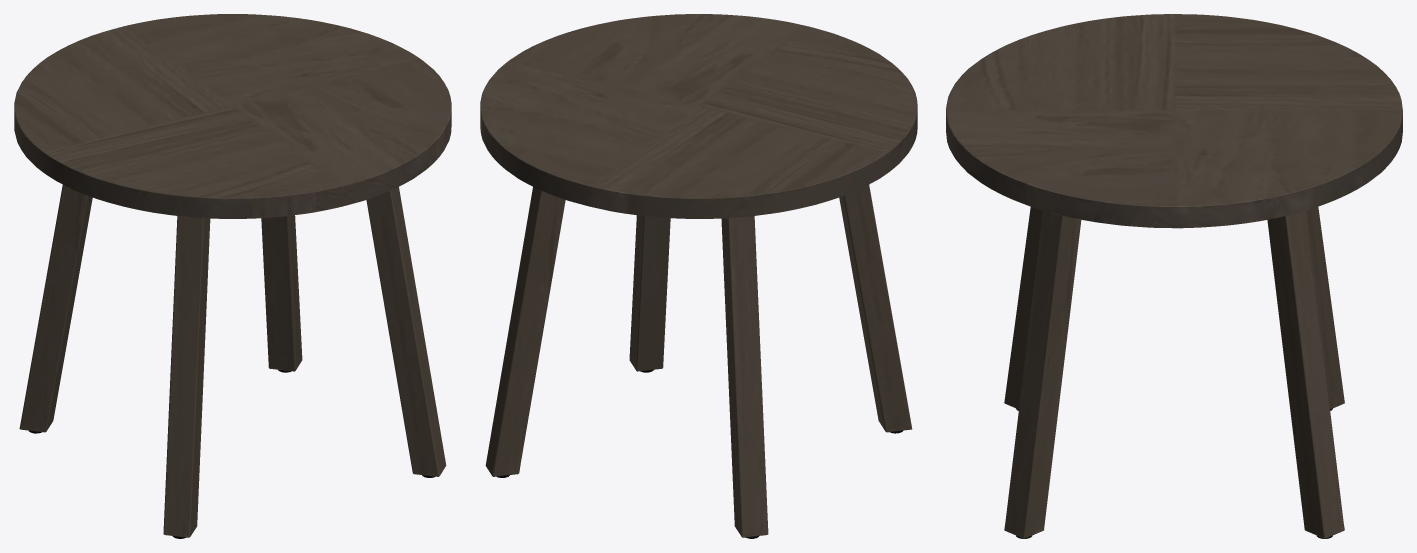
Rendered from LB-SIDETABLE-03.glb.
3 renders of one model, left to right at view 1: azimuth 30°, elevation 25°; view 2: azimuth 150°, elevation 25°; view 3: azimuth 270°, elevation 25°, orthographic. The views are drawn at different scales.
Parts seen in each view (by area): view 1: ASY_ART_90586558_S01_NV01; view 2: ASY_ART_90586558_S01_NV01; view 3: ASY_ART_90586558_S01_NV01.
Part boxes in pixels (x1,y1,x2,y2): ASY_ART_90586558_S01_NV01: (14, 14, 451, 538); ASY_ART_90586558_S01_NV01: (480, 14, 917, 538); ASY_ART_90586558_S01_NV01: (946, 14, 1402, 538).
Bounding box in the file's own units: 0.5501 × 0.4816 × 0.5501.
Materials: 1 (1 with a texture image).
